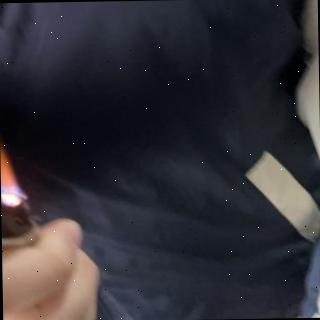fire: (0, 142, 23, 197)
